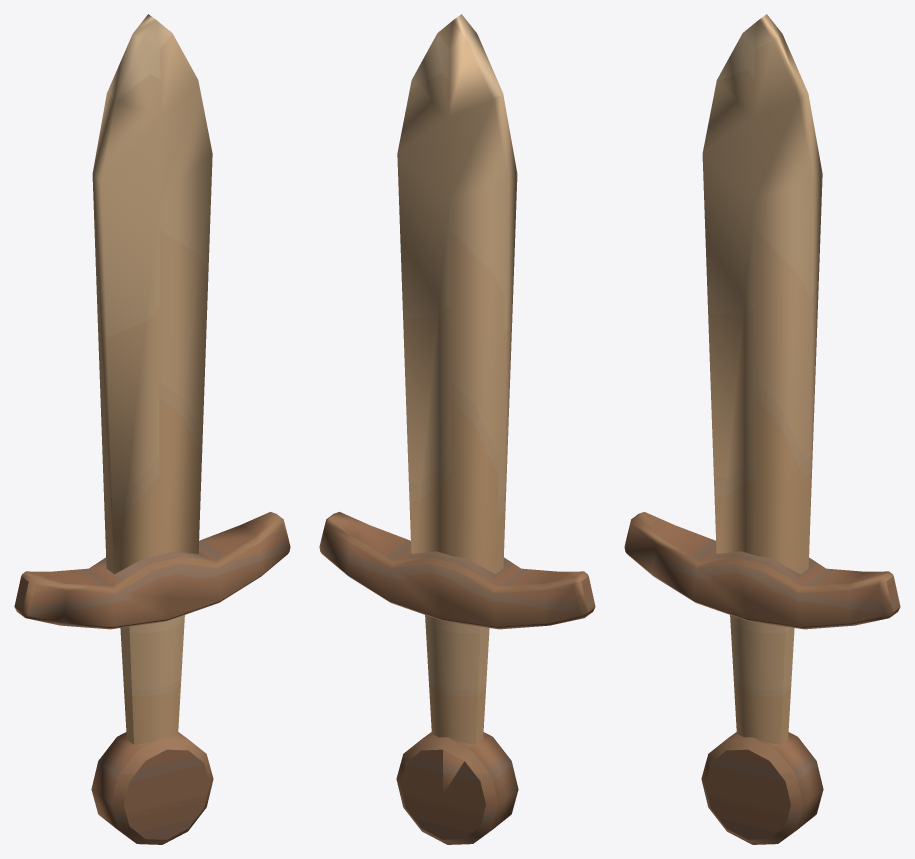
File: sword_a.glb
The picture shows the model from 3 angles, left to right: view 1: azimuth 30°, elevation 25°; view 2: azimuth 150°, elevation 25°; view 3: azimuth 330°, elevation 25°; orthographic projection.
Parts seen in each view (by area): view 1: sword_a; view 2: sword_a; view 3: sword_a.
Boxes of the visible parts, left/top/right/bottom form: sword_a: left=14, top=14, right=290, bottom=844; sword_a: left=319, top=14, right=595, bottom=844; sword_a: left=624, top=14, right=900, bottom=844.
Size of the model in its own units: 0.6077 by 1.77 by 0.1287.
1 material, 1 textured.
